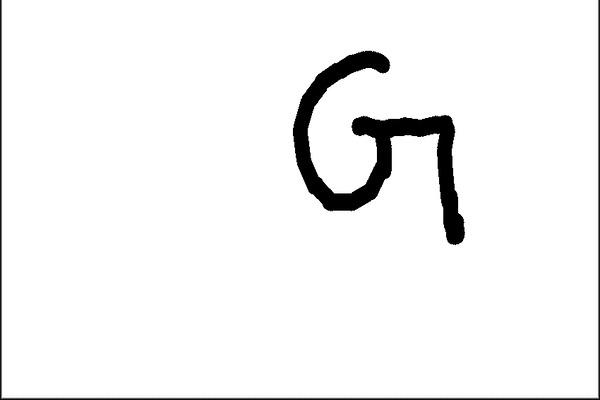G: (286, 46, 468, 246)
